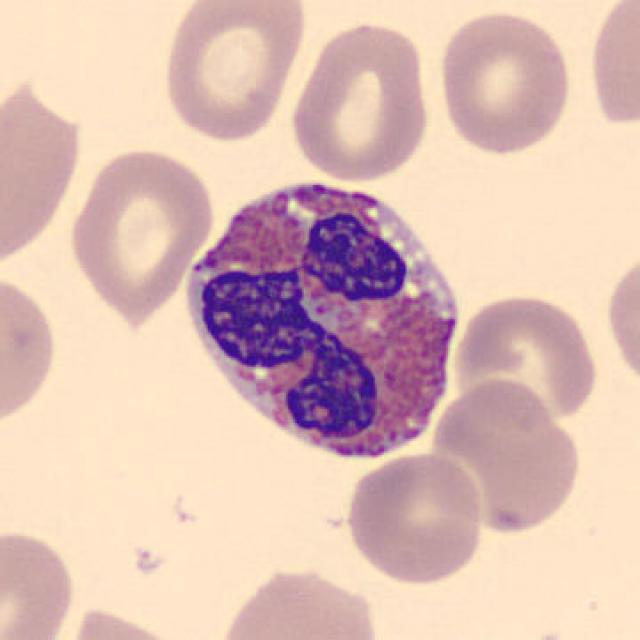Eosinophil: (172, 160, 473, 480)
Platelets: (528, 631, 572, 640)
RBC: (66, 141, 217, 324), (427, 374, 585, 539), (286, 18, 436, 185), (156, 0, 310, 145), (434, 7, 576, 157), (448, 291, 603, 427), (341, 450, 487, 587), (0, 69, 87, 273), (210, 562, 384, 640), (0, 266, 62, 434), (0, 525, 80, 640), (585, 0, 638, 132), (601, 243, 640, 395), (60, 603, 192, 640)
